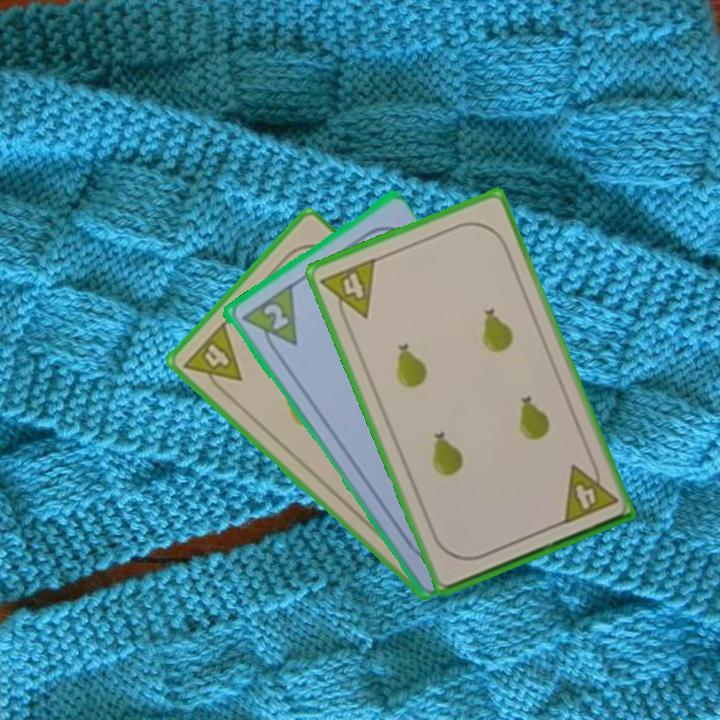2p: (236, 281, 301, 360)
4p: (180, 318, 245, 399), (317, 254, 379, 329), (558, 455, 620, 527)
